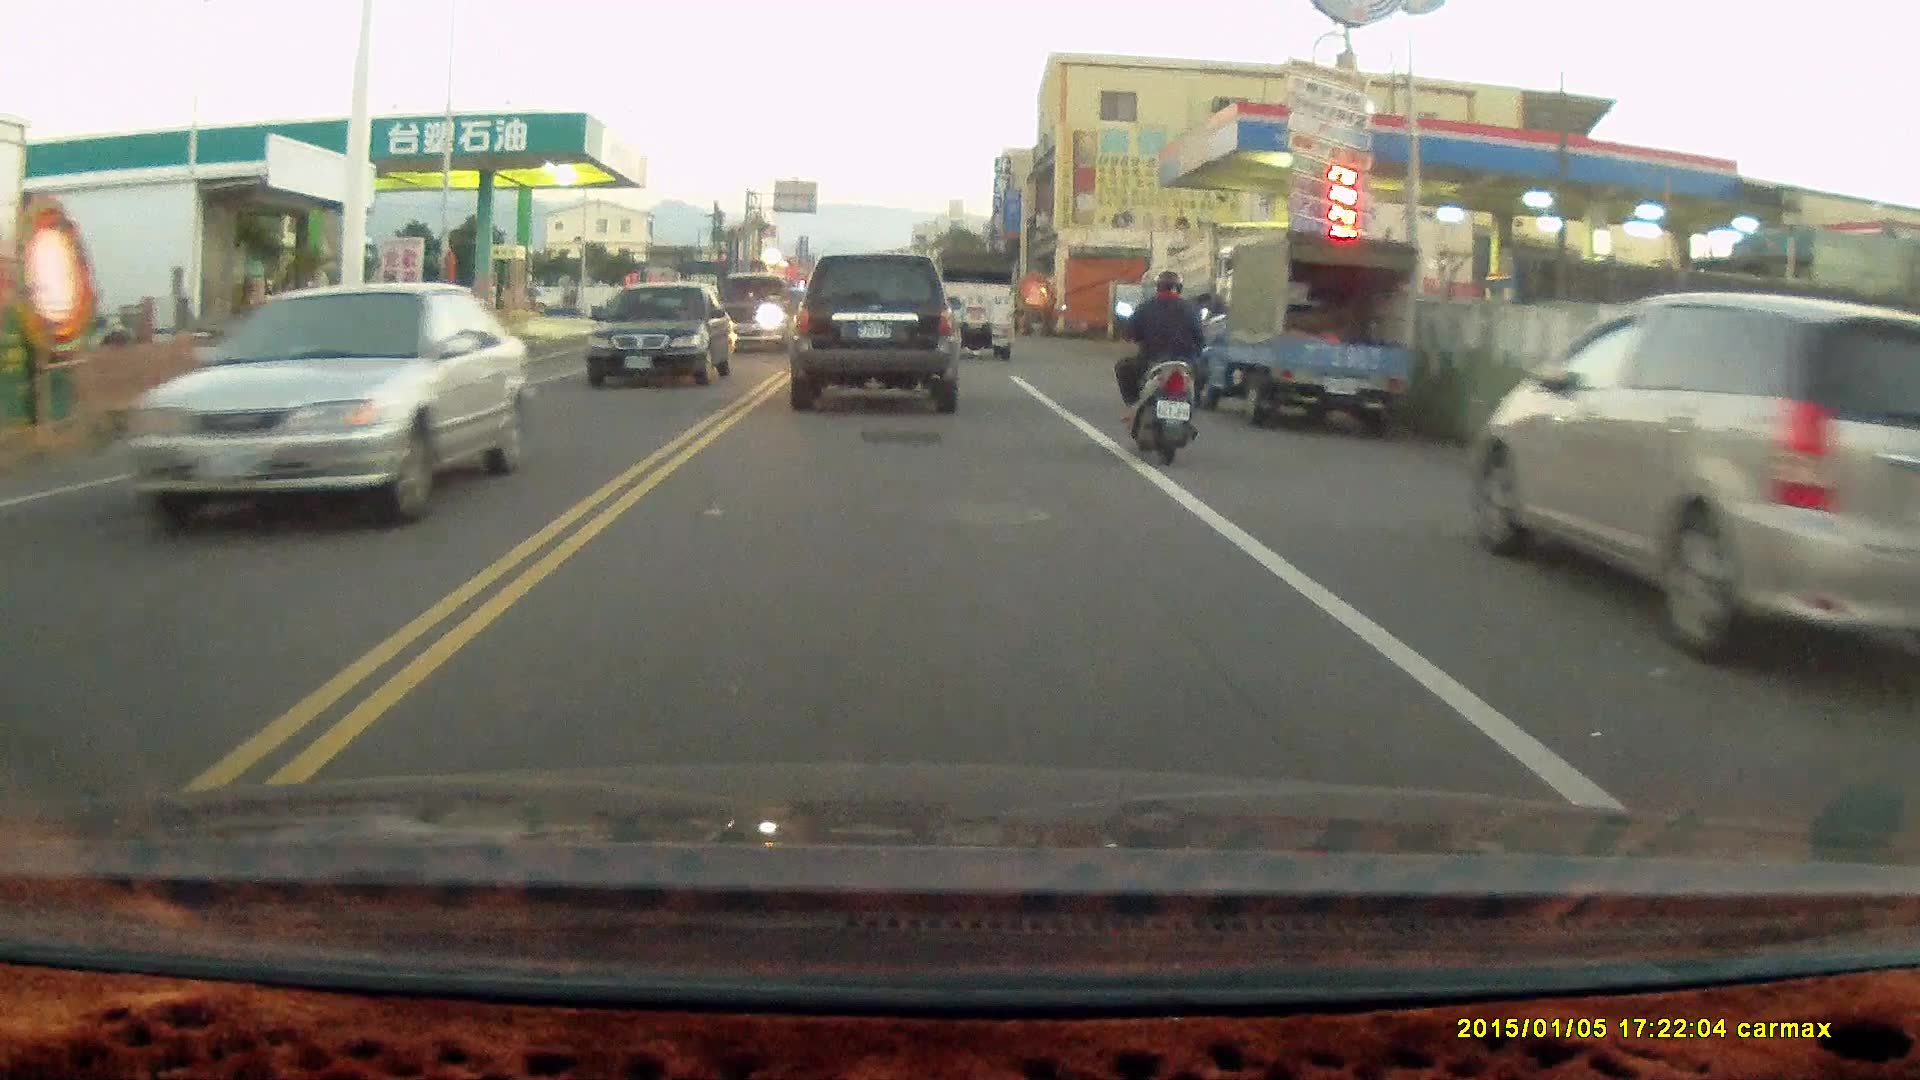rider: (1111, 270, 1214, 469)
vehicle: (1486, 292, 1901, 676), (132, 285, 527, 533), (1196, 236, 1423, 435), (786, 253, 961, 415), (584, 282, 738, 391), (934, 249, 1014, 361)
